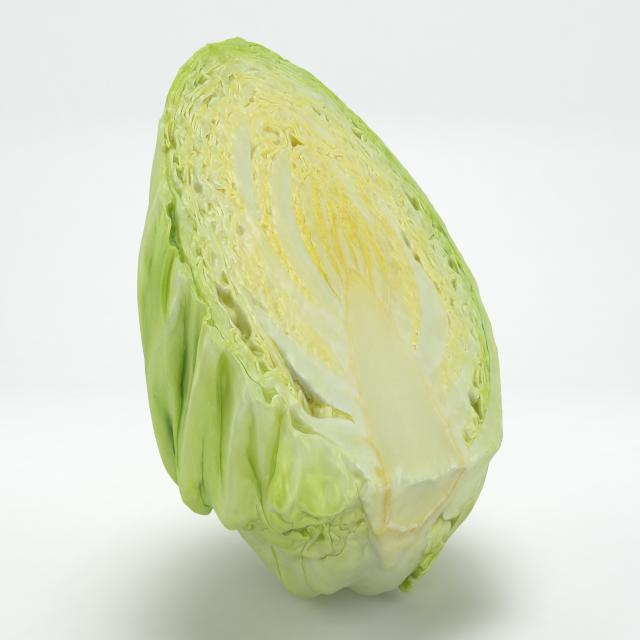haft-cabbage: (135, 28, 507, 604)
